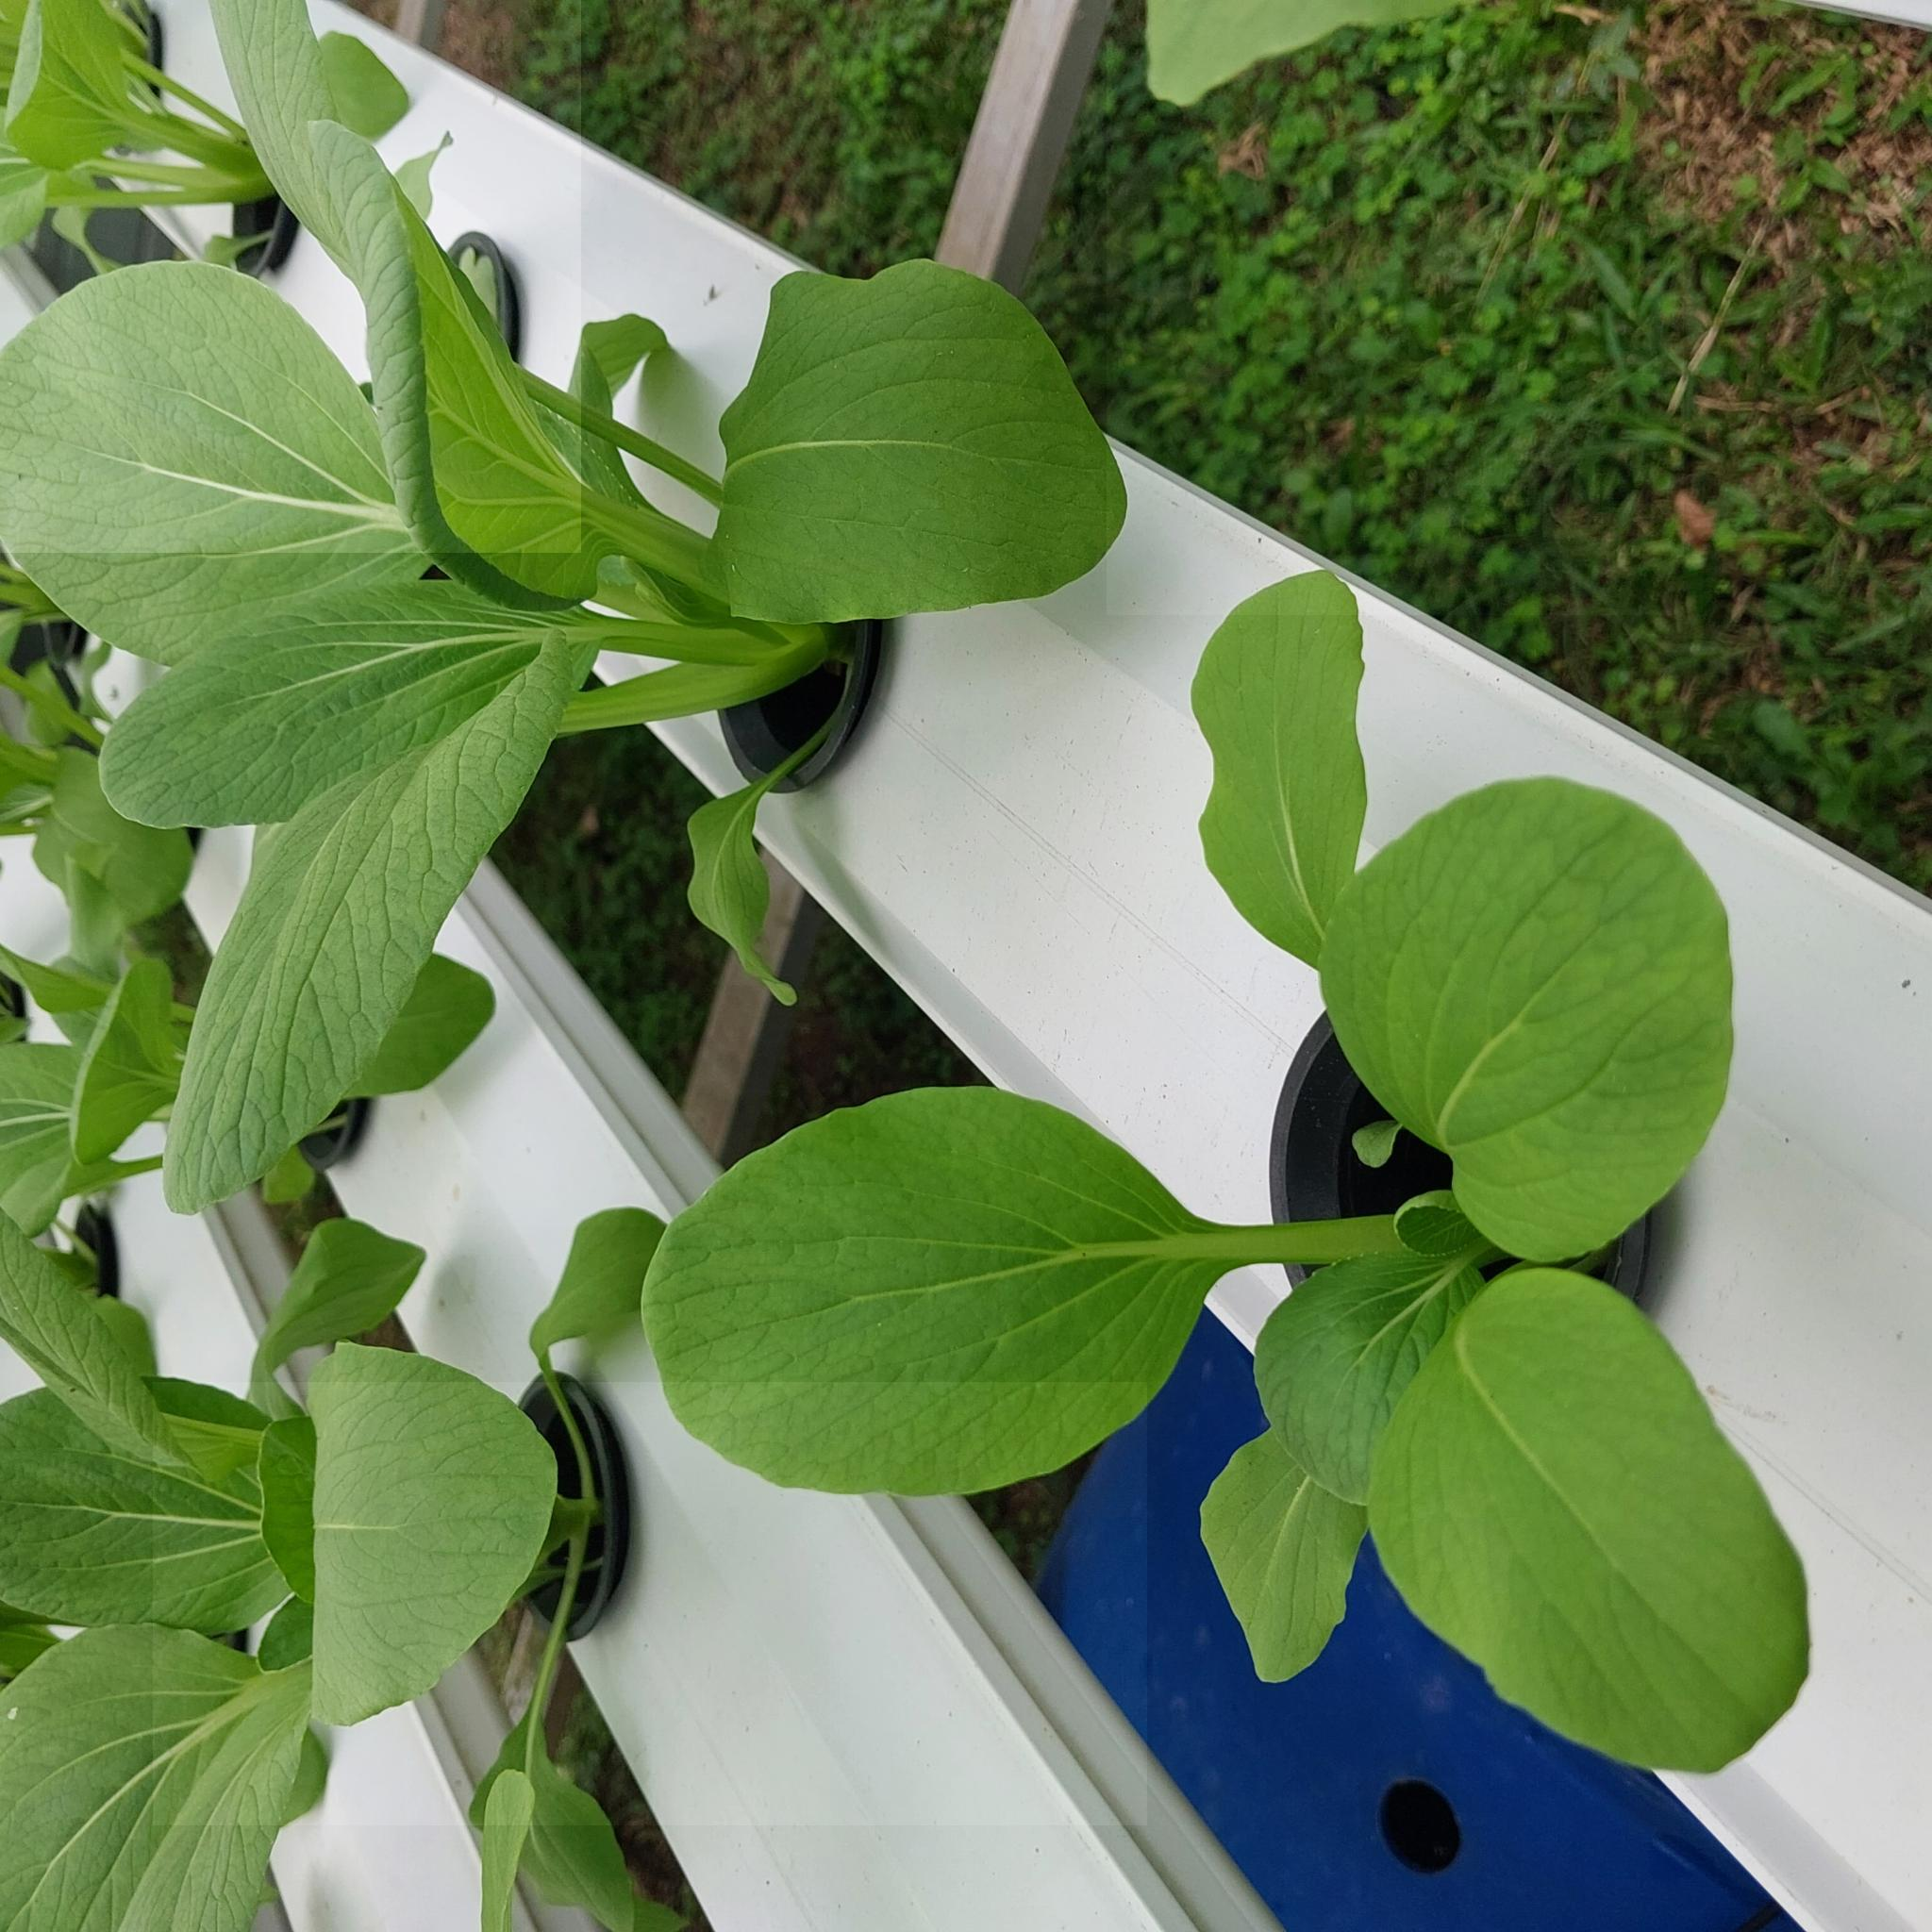Healthy-Pechay: (1357, 1256, 1813, 1780), (1320, 784, 1736, 1235), (642, 1090, 1035, 1495), (701, 262, 1090, 628), (99, 596, 552, 828), (0, 1626, 294, 1923), (1247, 1215, 1509, 1513), (1194, 575, 1368, 971), (681, 679, 853, 985), (0, 952, 193, 1223), (0, 1189, 182, 1468), (476, 1693, 672, 1932), (564, 308, 718, 605), (242, 1214, 428, 1433), (0, 0, 166, 186), (524, 1343, 603, 1663), (96, 444, 389, 529), (334, 955, 494, 1109), (531, 1207, 669, 1369), (2, 619, 113, 780), (255, 1414, 322, 1606), (2, 936, 134, 1030), (469, 1762, 536, 1925), (573, 313, 676, 414), (315, 32, 409, 138), (7, 0, 53, 168), (1764, 48, 1856, 126), (1391, 1191, 1483, 1258), (1744, 701, 1817, 775), (0, 1612, 67, 1684), (258, 1138, 324, 1210), (200, 218, 285, 272)
